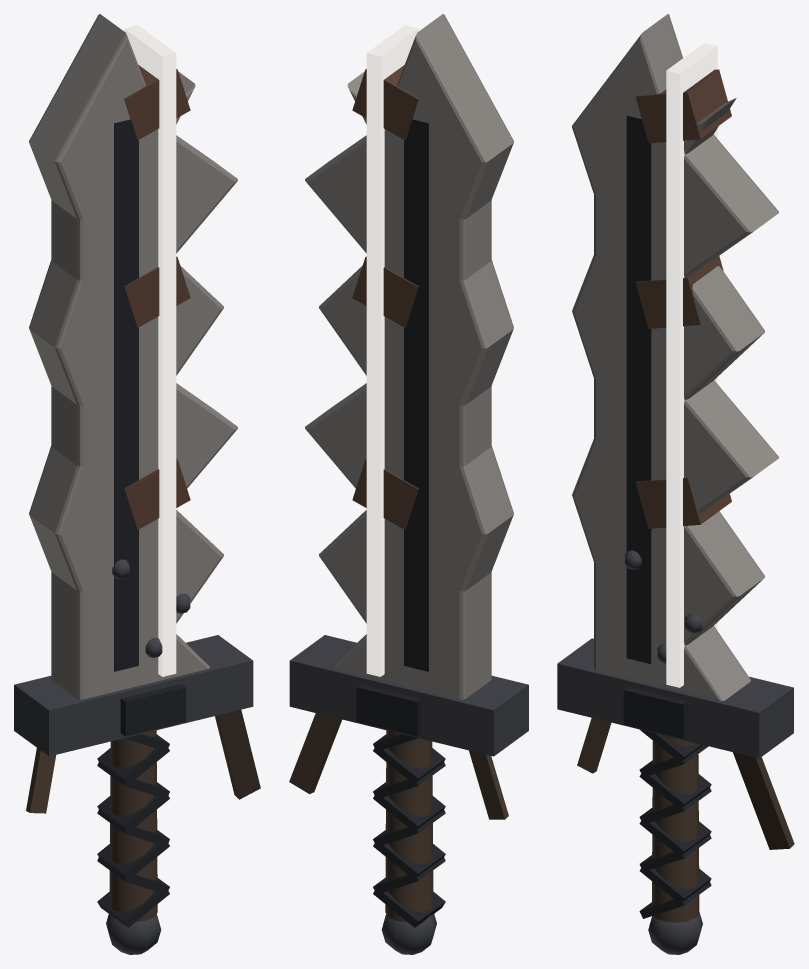
File: chosen.glb
3 renders of one model, left to right at view 1: azimuth 30°, elevation 25°; view 2: azimuth 150°, elevation 25°; view 3: azimuth 330°, elevation 25°, orthographic.
Parts seen in each view (by area): view 1: object 1, core, object 2, object 10, object 12, sway, object 11, object 5, object 3, object 4, object 21, object 13 (+6 smaller); view 2: object 1, core, object 2, object 10, object 12, sway, object 11, object 5, object 3, object 4, object 21, object 13 (+6 smaller); view 3: object 1, object 2, core, object 10, object 12, sway, object 5, object 11, object 4, object 3, object 21, object 18 (+7 smaller).
Part boxes in pixels (box(x1,y1,x2,y2)): object 1: box(29, 14, 237, 699); core: box(124, 25, 176, 676); object 2: box(114, 119, 138, 671); object 10: box(14, 635, 253, 756); object 12: box(109, 730, 157, 921); sway: box(26, 710, 260, 813); object 11: box(120, 684, 186, 736); object 5: box(124, 65, 190, 139); object 3: box(124, 458, 190, 529); object 4: box(124, 256, 190, 327); object 21: box(106, 914, 161, 954); object 13: box(97, 888, 169, 927); object 1: box(305, 14, 513, 699); core: box(366, 25, 418, 676); object 2: box(404, 119, 428, 671); object 10: box(289, 635, 528, 756); object 12: box(385, 730, 433, 921); sway: box(289, 713, 508, 819); object 11: box(356, 684, 422, 736); object 5: box(352, 65, 418, 139); object 3: box(352, 458, 418, 529); object 4: box(352, 256, 418, 327); object 21: box(381, 914, 436, 954); object 13: box(373, 888, 445, 927); object 1: box(572, 14, 778, 700); object 2: box(626, 115, 651, 663); core: box(666, 43, 717, 687); object 10: box(557, 638, 793, 758); object 12: box(652, 735, 699, 922); sway: box(577, 718, 794, 849); object 5: box(635, 69, 731, 143); object 11: box(623, 686, 688, 738); object 4: box(635, 256, 723, 328); object 3: box(635, 477, 731, 528); object 21: box(648, 912, 702, 954); object 18: box(639, 771, 711, 810).
Size of the model in its own units: 0.8103 by 3.24 by 0.28.
